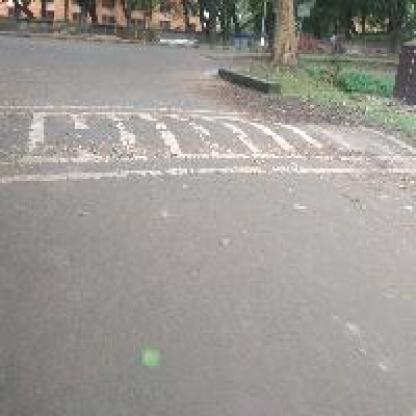Speed Bump: (2, 104, 412, 183)
